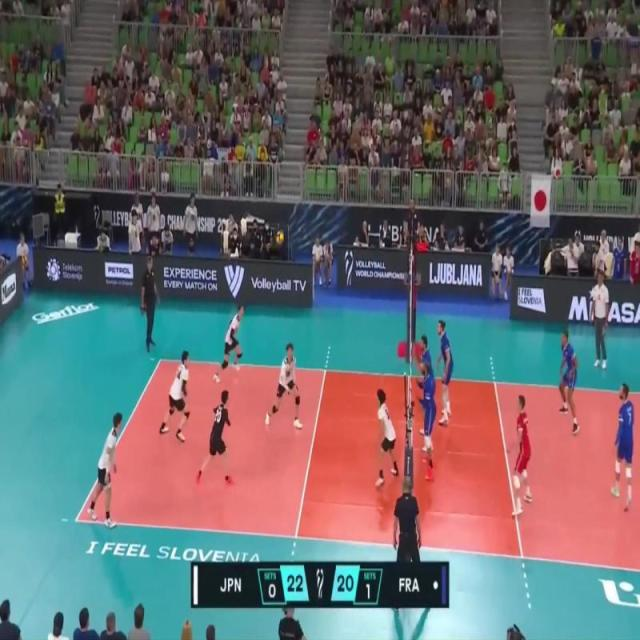volleyball: (275, 230, 284, 244)
